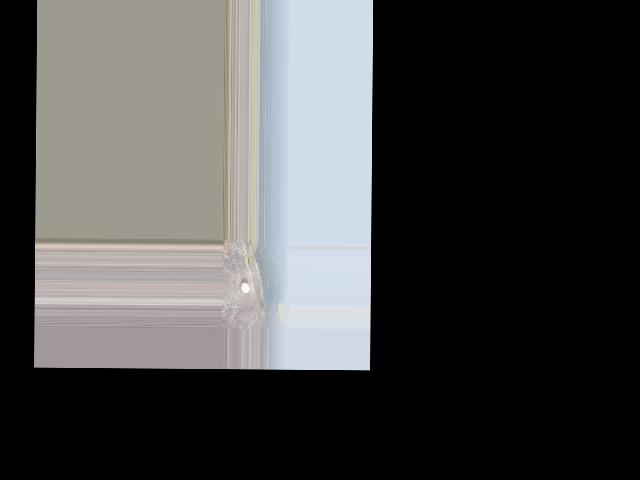egg: (240, 282, 249, 293)
